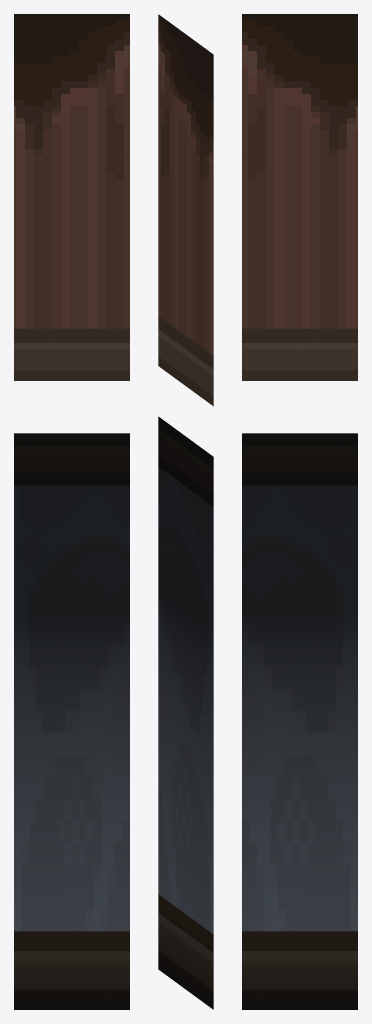
3 renders of one model, left to right at view 1: azimuth 90°, elevation 25°; view 2: azimuth 210°, elevation 25°; view 3: azimuth 270°, elevation 25°, orthographic. The views are drawn at different scales.
Size of the model in its own units: 0 by 9.5 by 1.
5 materials, 5 textured.
